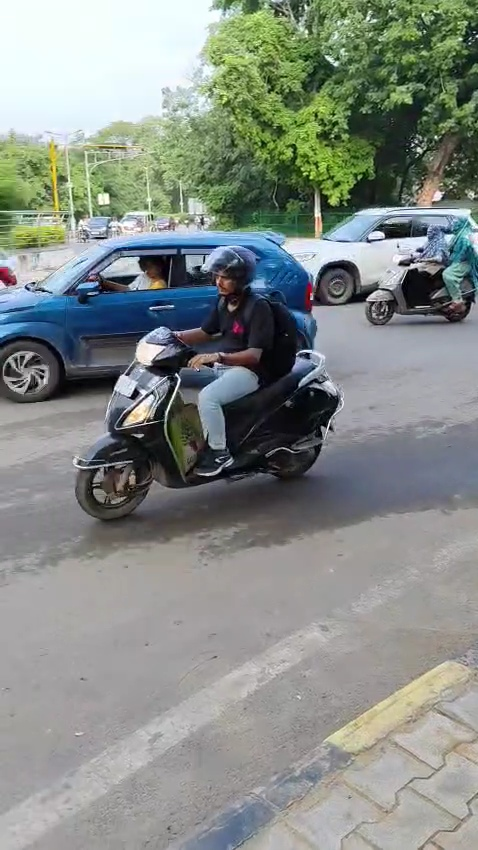BikeWithRider: (58, 230, 365, 544), (354, 204, 478, 337)
Helmet: (203, 245, 260, 308)
NoHelmet: (449, 214, 470, 236), (423, 222, 440, 245)
